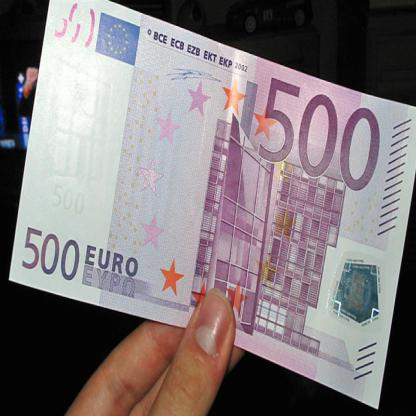euro_banknote: (40, 49, 376, 341)
